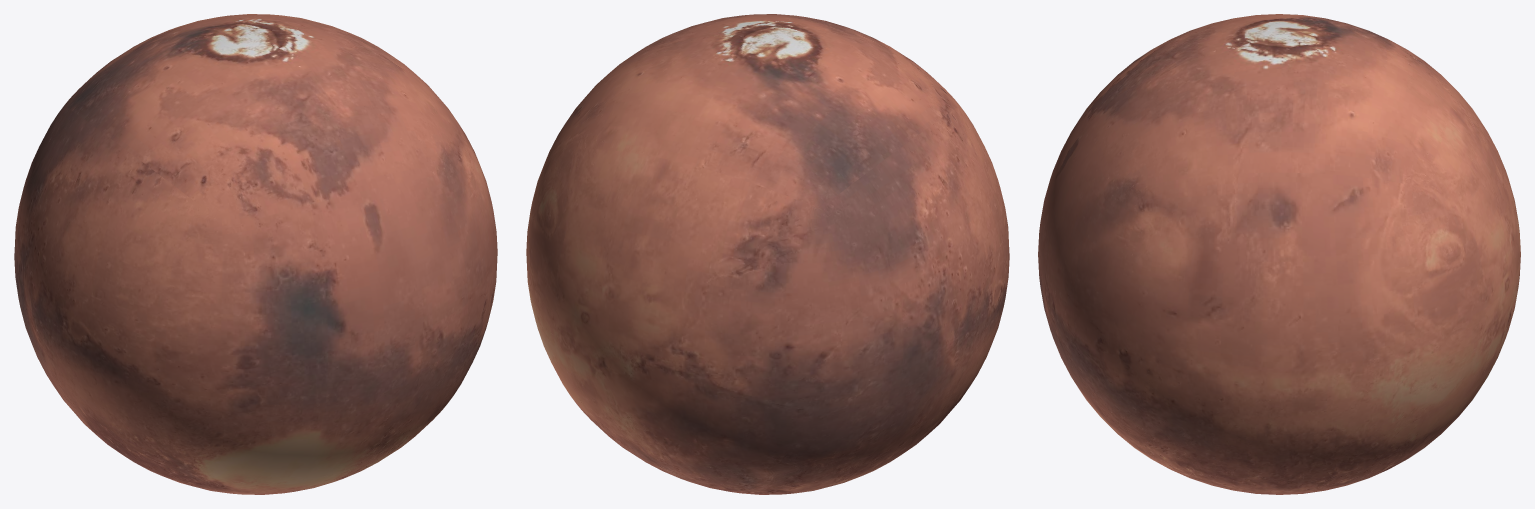
File: mars-compressed.glb
3 views of the same model, side by side, from view 1: azimuth 30°, elevation 25°; view 2: azimuth 150°, elevation 25°; view 3: azimuth 270°, elevation 25° (orthographic).
Parts seen in each view (by area): view 1: Cube.008; view 2: Cube.008; view 3: Cube.008.
Boxes of the visible parts, box(x1,y1,x2,y2) form: Cube.008: box(14, 14, 497, 494); Cube.008: box(526, 14, 1009, 494); Cube.008: box(1038, 14, 1520, 494).
Bounding box in the file's own units: 1000 × 994 × 1000.
Materials: 1 (1 with a texture image).
